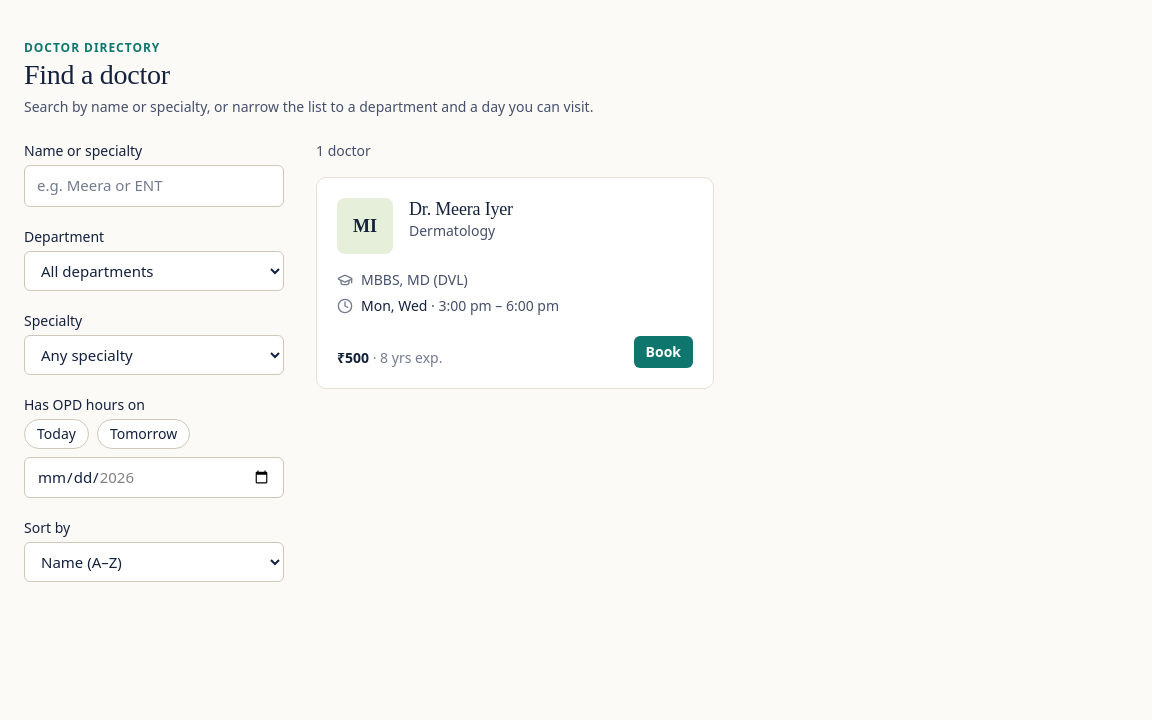
Test: Doctor directory › loads doctors from the API and searches by name
Expected: the heading "Dr. Meera Iyer" is shown, [409,198,513,221]
Expected: the text "1 doctor" is shown, [316,141,371,160]
Type "zzz" into the search field labelled "Name or specialty" at (154, 186), box [24,165,284,207]
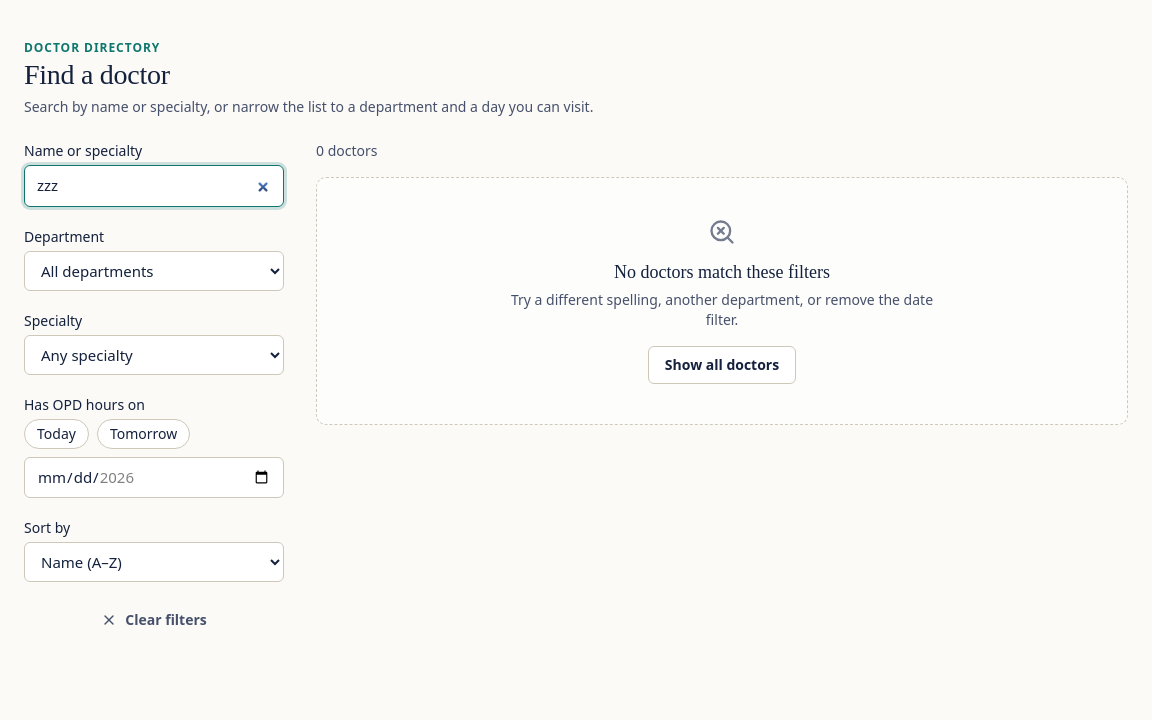
Now the text "No doctors match these filters" is shown, box [614,262,830,282]
